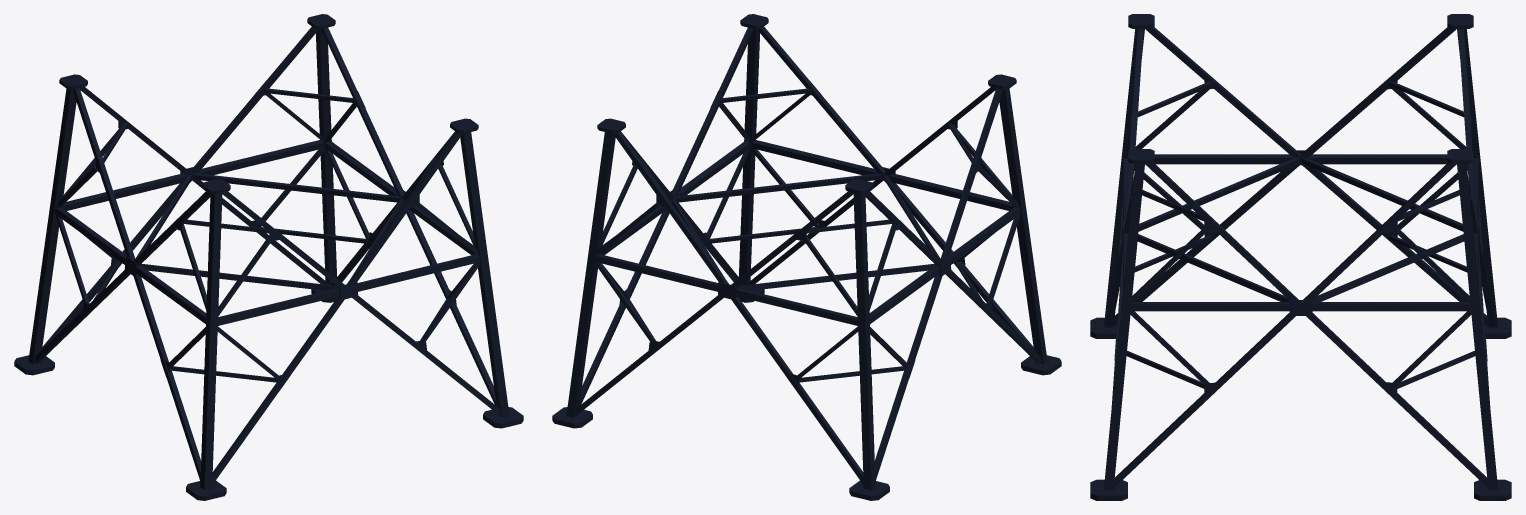
Rendered from tower_base_c.fbx.
3 views of the same model, side by side, from view 1: azimuth 30°, elevation 25°; view 2: azimuth 150°, elevation 25°; view 3: azimuth 270°, elevation 25° (orthographic). The views are drawn at different scales.
Parts seen in each view (by area): view 1: tower_base_c; view 2: tower_base_c; view 3: tower_base_c.
Part boxes in pixels (x1,y1,x2,y2): tower_base_c: (14, 14, 523, 500); tower_base_c: (552, 14, 1061, 500); tower_base_c: (1090, 14, 1511, 500).
Size of the model in its own units: 209 by 178 by 209.
